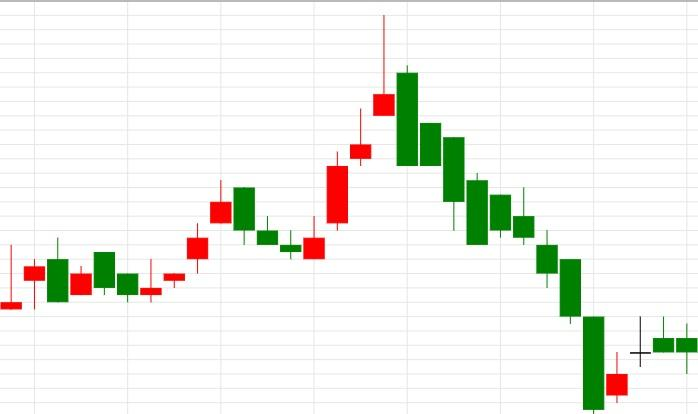shooting_star_fall: (304, 16, 395, 259)
